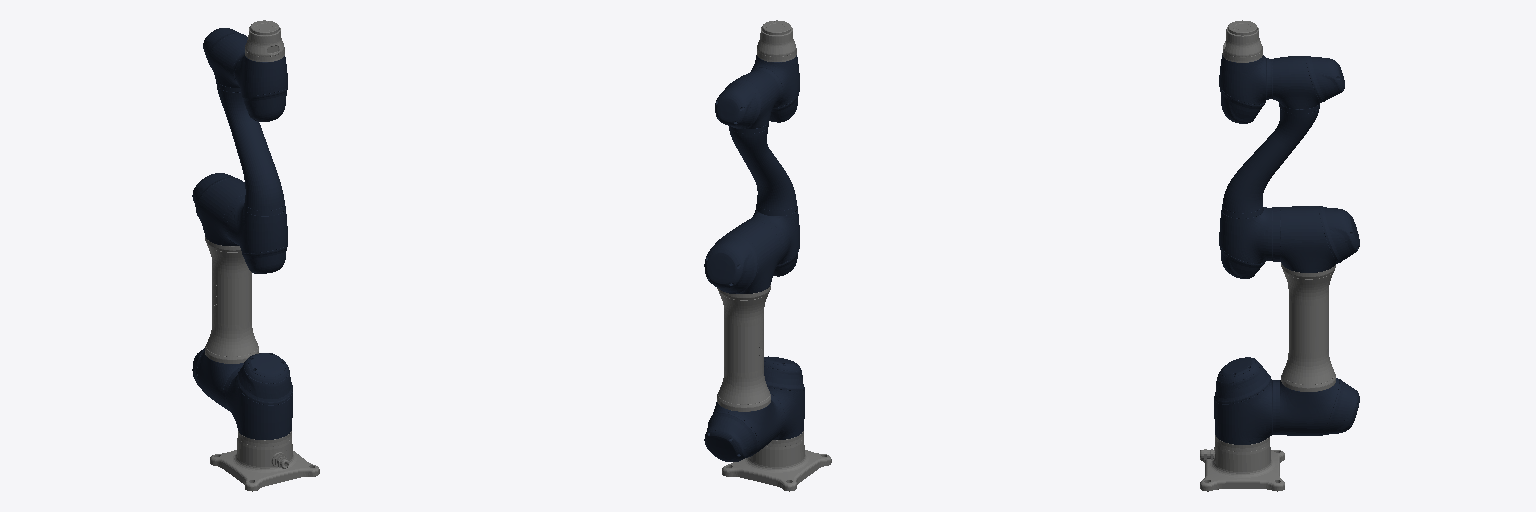
URDF robot description (a0509):
<?xml version="1.0"?>

<robot name="a0509" xmlns:xacro="http://www.ros.org/wiki/xacro">
	<link name="base_0">
		<inertial>
			<mass value="2.198"/>
			<origin xyz="-1e-06   -0.001096    0.058957"/>
			<inertia ixx="0.010511" ixy="4.9786e-06" ixz="7.1839e-06" iyy="0.012033"
				iyz="-2.3529e-05"
				izz="0.012481"/>
		</inertial>
		<visual>
			<origin rpy="0 0 0" xyz="0 0 0" />
			<geometry>
				<mesh filename="meshes/a0509_blue/A0509_0_0.stl" scale="0.001 0.001 0.001" />
			</geometry>
			<material name="dr_gray">
				<color rgba="0.490 0.490 0.486 1.0"/>
			</material>
		</visual>
	</link>

  	<link name="doosan_pedestal">
    	<visual>
      		<origin rpy="1.57079632679 0 -1.57079632679" xyz="0.26 0.345 -0.91488"/>
      		<geometry>
        		<mesh filename="meshes/doosan_pedestal/pedestal.STL"/>
      		</geometry>
      		<material name="darkgray">
        		<color rgba=".2 .2 .2 1"/>
      		</material>
    	</visual>
    	<collision>
      		<origin rpy="0 0 0" xyz="-0.02 0 -0.29"/>
			<geometry>
      		  	<cylinder length="0.62" radius="0.18"/>
      		</geometry>
    	</collision>
    	<inertial>
      		<origin rpy="0 0 0" xyz="0 0 -0.5"/>
      		<mass value="60.86397744"/>
      		<inertia ixx="5.0635929" ixy="0.00103417" ixz="0.80199628" iyy="6.08689388" iyz="0.00105311" izz="4.96191932"/>
		</inertial>
  	</link>

	<joint name="doosan_pedestal_fixed" type="fixed">
		<origin rpy="0 0 0" xyz="0.0 0.0 0.0"/>
		<parent link="base_0"/>
		<child link="doosan_pedestal"/>
	</joint>  

	<link name="doosan_controller_box">
		<collision>
		<origin rpy="0 0 0" xyz="-0.325 0 -0.38"/>
		<geometry>
			<box size="0.22 0.4 0.53"/>
		</geometry>
		</collision>
	</link>

	<joint name="doosan_controller_box_fixed" type="fixed">
		<origin rpy="0 0 0" xyz="0.0 0.0 0.0"/>
		<parent link="base_0"/>
		<child link="doosan_controller_box"/>
	</joint>

	<link name="doosan_pedestal_feet">
		<collision>
		<origin rpy="0 0 0" xyz="-0.1225 0 -0.758"/>
		<geometry>
			<box size="0.77 0.7 0.31"/>
		</geometry>
		</collision>
	</link>

	<joint name="doosan_pedestal_feet_fixed" type="fixed">
		<origin rpy="0 0 0" xyz="0.0 0.0 0.0"/>
		<parent link="base_0"/>
		<child link="doosan_pedestal_feet"/>
	</joint>
  
	<!-- joint 1 -->
	<joint name="joint1" type="revolute">
		<parent link="base_0" />
		<child link="link1" />
		<origin rpy="0 0 0" xyz="0 0 0.1555" />
		<axis xyz="0 0 1" />
		<limit effort="194" lower="-6.2832" upper="6.2832" velocity="3.1416"/>
		<dynamics friction="0" />
	</joint>
	<link name="link1">
		<inertial>
			<mass value="3.715"/>
			<origin xyz="-6.9e-05    0.024423   -0.007375"/>
			<inertia ixx="0.01899" ixy="7.8574e-07" ixz="1.865e-05" iyy="0.013731" iyz="-0.00072828"
				izz="0.01686"/>
		</inertial>
		<collision>
			<geometry>
				<cylinder radius="0.08" length="0.2"/>
			</geometry>
		</collision>
		<visual>
			<origin rpy="0 0 0" xyz="0 0 0" />
			<geometry>
				<mesh filename="meshes/a0509_blue/A0509_1_0.stl" scale="0.001 0.001 0.001" />
			</geometry>
			<material name="dr_navy">
				<color rgba="0.15686 0.19215 0.25490 1" />
			</material>
		</visual>
		<visual>
			<origin rpy="0 0 0" xyz="0 0 0" />
			<geometry>
				<mesh filename="meshes/a0509_blue/A0509_1_1.stl" scale="0.001 0.001 0.001" />
			</geometry>
			<material name="dr_navy">
				<color rgba="0.15686 0.19215 0.25490 1" />
			</material>
		</visual>
		<visual>
			<origin rpy="0 0 0" xyz="0 0 0" />
			<geometry>
				<mesh filename="meshes/a0509_blue/A0509_1_2.stl" scale="0.001 0.001 0.001" />
			</geometry>
			<material name="dr_navy">
				<color rgba="0.15686 0.19215 0.25490 1" />
			</material>
		</visual>

	</link>
	<!-- joint2 -->
	<joint name="joint2" type="revolute">
		<parent link="link1" />
		<child link="link2" />
		<origin rpy="0 -1.571 -1.571" xyz="0 0 0" />
		<axis xyz="0 0 1" />
		<limit effort="194" lower="-6.2832" upper="6.2832" velocity="3.1416"/>
		<dynamics friction="0" />
	</joint>
	<link name="link2">
		<inertial>
			<mass value="6.837"/>
			<origin xyz="0.20449 -1.2521e-17     0.13271"/>
			<inertia ixx="0.019399" ixy="0.00010317" ixz="4.2985e-06" iyy="0.25627" iyz="5.1674e-06"
				izz="0.25442"/>
		</inertial>
		<collision>
			<origin rpy="0 -1.571 0" xyz="0.2 0 0.1525" />
			<geometry>
				<cylinder radius="0.08" length="0.5"/>
			</geometry>
		</collision>
		<visual>
			<origin rpy="0 0 0" xyz="0 0 0" />
			<geometry>
				<mesh filename="meshes/a0509_blue/A0509_2_0.stl" scale="0.001 0.001 0.001" />
			</geometry>
			<material name="dr_navy">
				<color rgba="0.15686 0.19215 0.25490 1" />
			</material>
		</visual>
		<visual>
			<origin rpy="0 0 0" xyz="0 0 0" />
			<geometry>
				<mesh filename="meshes/a0509_blue/A0509_2_1.stl" scale="0.001 0.001 0.001" />
			</geometry>
			<material name="dr_gray">
				<color rgba="0.490 0.490 0.486 1.0"/>
			</material>
		</visual>
		<visual>
			<origin rpy="0 0 0" xyz="0 0 0" />
			<geometry>
				<mesh filename="meshes/a0509_blue/A0509_2_2.stl" scale="0.001 0.001 0.001" />
			</geometry>
			<material name="dr_navy">
				<color rgba="0.15686 0.19215 0.25490 1" />
			</material>
		</visual>
	</link>
	<!-- joint3 -->
	<joint name="joint3" type="revolute">
		<parent link="link2" />
		<child link="link3" />
		<origin rpy="0 0 1.571" xyz="0.409 0 0" />
		<axis xyz="0 0 1" />
		<limit effort="163" lower="-2.7925" upper="2.7925" velocity="3.1416"/>
		<dynamics friction="0" />
	</joint>
	<link name="link3">
		<inertial>
			<mass value="2.769"/>
			<origin xyz="7.1e-05   -0.005123    0.033009"/>
			<inertia ixx="0.012526" ixy="-7.1869e-06" ixz="1.3345e-05" iyy="0.013868"
				iyz="-0.00047287"
				izz="0.0088186"/>
		</inertial>
		<visual>
			<origin rpy="0 0 0" xyz="0 0 0" />
			<geometry>
				<mesh filename="meshes/a0509_blue/A0509_3_0.stl" scale="0.001 0.001 0.001" />
			</geometry>
			<material name="dr_navy">
				<color rgba="0.15686 0.19215 0.25490 1" />
			</material>
		</visual>
		<visual>
			<origin rpy="0 0 0" xyz="0 0 0" />
			<geometry>
				<mesh filename="meshes/a0509_blue/A0509_3_1.stl" scale="0.001 0.001 0.001" />
			</geometry>
			<material name="dr_navy">
				<color rgba="0.15686 0.19215 0.25490 1" />
			</material>
		</visual>
	</link>
	<!-- joint4 -->
	<joint name="joint4" type="revolute">
		<parent link="link3" />
		<child link="link4" />
		<origin rpy="1.571 0 0" xyz="0 -0.367 0" />
		<axis xyz="0 0 1" />
		<limit effort="50" lower="-6.2832" upper="6.2832" velocity="6.2832"/>
		<dynamics friction="0" />
	</joint>
	<link name="link4">
		<inertial>
			<mass value="2.679"/>
			<origin xyz="-8.6e-05    0.086348   -0.086031"/>
			<inertia ixx="0.056068" ixy="2.2109e-05" ixz="1.4522e-05" iyy="0.047122" iyz="-0.014997"
				izz="0.013329"/>
		</inertial>
		<collision>
			<origin rpy="-0.55 0 0" xyz="0 0.05 -0.2" />
			<geometry>
				<cylinder radius="0.05" length="0.4"/>
			</geometry>
		</collision>
		<visual>
			<origin rpy="0 0 0" xyz="0 0 0" />
			<geometry>
				<mesh filename="meshes/a0509_blue/A0509_4_0.stl" scale="0.001 0.001 0.001" />
			</geometry>
			<material name="dr_navy">
				<color rgba="0.15686 0.19215 0.25490 1" />
			</material>
		</visual>
		<visual>
			<origin rpy="0 0 0" xyz="0 0 0" />
			<geometry>
				<mesh filename="meshes/a0509_blue/A0509_4_1.stl" scale="0.001 0.001 0.001" />
			</geometry>
			<material name="dr_navy">
				<color rgba="0.15686 0.19215 0.25490 1" />
			</material>
		</visual>
	</link>
	<!-- joint5 -->
	<joint name="joint5" type="revolute">
		<parent link="link4" />
		<child link="link5" />
		<origin rpy="-1.571 0 0" xyz="0 0 0" />
		<axis xyz="0 0 1" />
		<limit effort="50" lower="-6.2832" upper="6.2832" velocity="6.2832"/>
		<dynamics friction="0" />
	</joint>
	<link name="link5">
		<inertial>
			<mass value="2.051"/>
			<origin xyz="9.1e-05   -0.006457    0.015434"/>
			<inertia ixx="0.0090788" ixy="-5.3997e-06" ixz="8.3955e-06" iyy="0.0084721"
				iyz="-0.0001816"
				izz="0.010453"/>
		</inertial>
		<collision>
			<origin rpy="1.571 0 0" xyz="0 0 0" />
			<geometry>
				<cylinder radius="0.06" length="0.15"/>
			</geometry>
		</collision>
		<visual>
			<origin rpy="0 0 0" xyz="0 0 0" />
			<geometry>
				<mesh filename="meshes/a0509_blue/A0509_5_0.stl" scale="0.001 0.001 0.001" />
			</geometry>
			<material name="dr_navy">
				<color rgba="0.15686 0.19215 0.25490 1" />
			</material>
		</visual>
		<visual>
			<origin rpy="0 0 0" xyz="0 0 0" />
			<geometry>
				<mesh filename="meshes/a0509_blue/A0509_5_1.stl" scale="0.001 0.001 0.001" />
			</geometry>
			<material name="dr_navy">
				<color rgba="0.15686 0.19215 0.25490 1" />
			</material>
		</visual>
	</link>
	<!-- joint6 -->
	<joint name="joint6" type="revolute">
		<parent link="link5" />
		<child link="link6" />
		<origin rpy="1.571 0 0" xyz="0 -0.124 0" />
		<axis xyz="0 0 1" />
		<limit effort="50" lower="-6.2832" upper="6.2832" velocity="6.2832"/>
		<dynamics friction="0" />
	</joint>
	<link name="link6">
		<inertial>
			<mass value="0.773"/>
			<origin xyz="-2.2e-05      -7e-06   -0.051746"/>
			<inertia ixx="0.0087483" ixy="7.9428e-06" ixz="1.7034e-06" iyy="0.0078566"
				iyz="9.6857e-06"
				izz="0.0044452"/>
		</inertial>
		<visual>
			<origin rpy="0 0 0" xyz="0 0 0" />
			<geometry>
				<mesh filename="meshes/a0509_blue/A0509_6_0.stl" scale="0.001 0.001 0.001" />
			</geometry>
			<material name="dr_gray">
				<color rgba="0.490 0.490 0.486 1.0"/>
			</material>
		</visual>
	</link>
</robot>

--- Facts derived from the render (not from the file) ---
The picture shows the robot from 3 angles, left to right: view 1: azimuth 30°, elevation 25°; view 2: azimuth 150°, elevation 25°; view 3: azimuth 270°, elevation 25°; orthographic projection.
Model a0509 with 10 links and 9 joints (6 revolute, 3 fixed), rooted at base_0, posed every joint at zero.
Visible links, largest first — view 1: link2, link4, link1, base_0, link3, link5, link6; view 2: link2, link4, base_0, link1, link5, link3, link6; view 3: link2, link4, link1, base_0, link3, link5, link6.
Link boxes in pixels (x1,y1,x2,y2): link2: (192,173,258,410); link4: (203,28,285,215); link1: (223,353,292,439); base_0: (210,431,319,491); link3: (223,194,287,273); link5: (233,52,287,121); link6: (245,20,284,61); link2: (704,220,781,461); link4: (715,70,797,215); base_0: (722,431,831,491); link1: (764,356,804,439); link5: (751,55,799,122); link3: (746,209,799,276); link6: (757,20,796,61); link2: (1280,206,1359,435); link4: (1222,56,1344,218); link1: (1214,357,1279,444); base_0: (1200,435,1284,491); link3: (1219,207,1279,278); link5: (1219,55,1272,123); link6: (1222,20,1262,62).
Size in the robot's own frame: 0.182 by 0.342 by 1.06 metres.
Meshes: 15 distinct files referenced, 14 mesh visuals loaded (14 binary STL); not drawn: 1 (reference not matched to a file when rendering).
